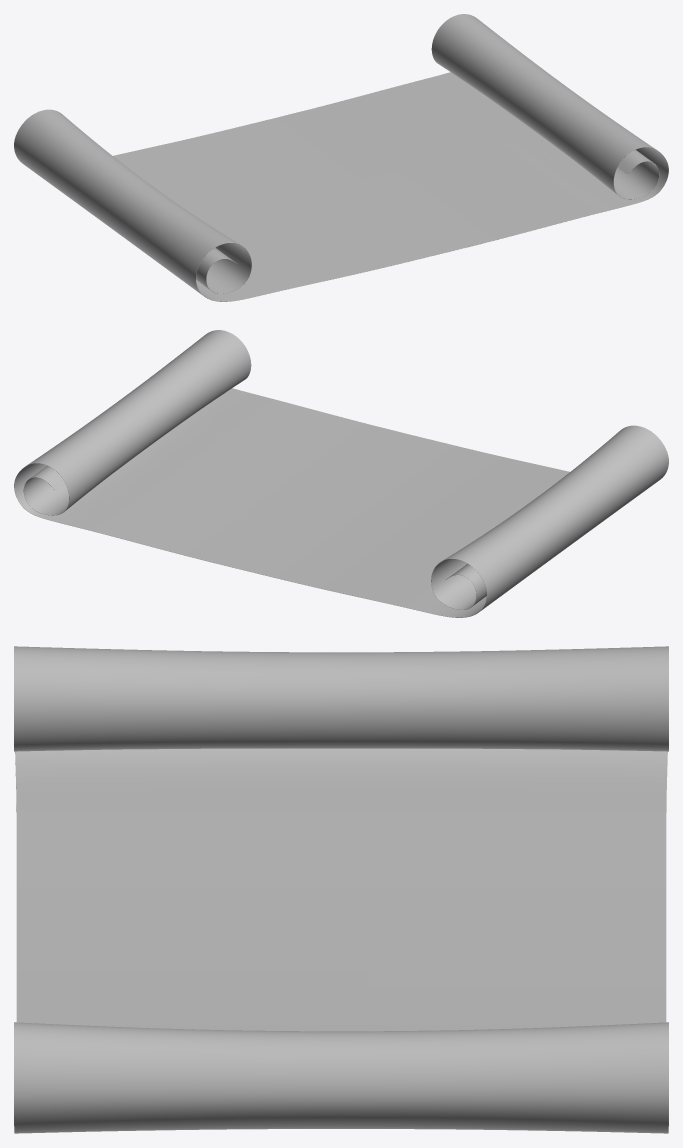
File: paper-scrolls-02.fbx
3 renders of one model, top to bottom at view 1: azimuth 30°, elevation 25°; view 2: azimuth 150°, elevation 25°; view 3: azimuth 270°, elevation 25°, orthographic. The views are drawn at different scales.
Parts seen in each view (by area): view 1: 14, 3; view 2: 14, 3; view 3: 14.
Boxes of the visible parts, bbox=[...] form: 14: bbox=[14, 14, 668, 301]; 3: bbox=[196, 147, 668, 301]; 14: bbox=[14, 330, 668, 617]; 3: bbox=[14, 463, 486, 617]; 14: bbox=[14, 646, 668, 1133].
Bounding box in the file's own units: 11118 × 1434 × 7404.
Materials: 1 (1 with a texture image).
